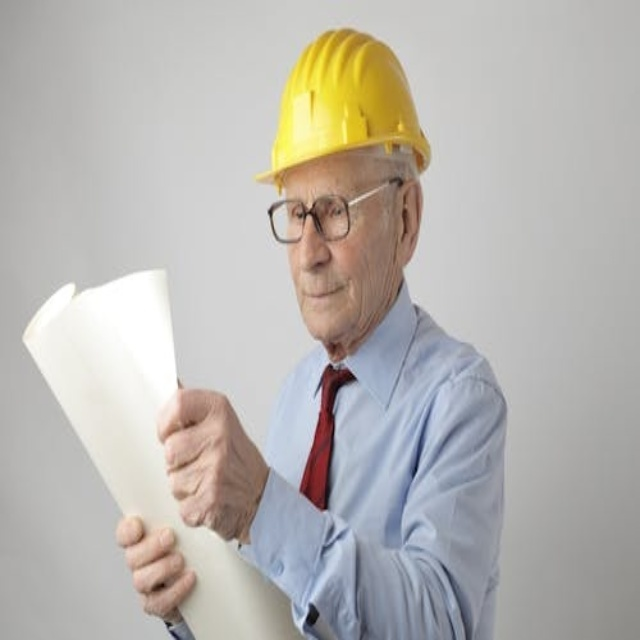Gafas: (265, 178, 403, 246)
Sin_guantes: (155, 382, 263, 545), (115, 511, 196, 628)
Sin_mascara: (291, 270, 357, 329)
